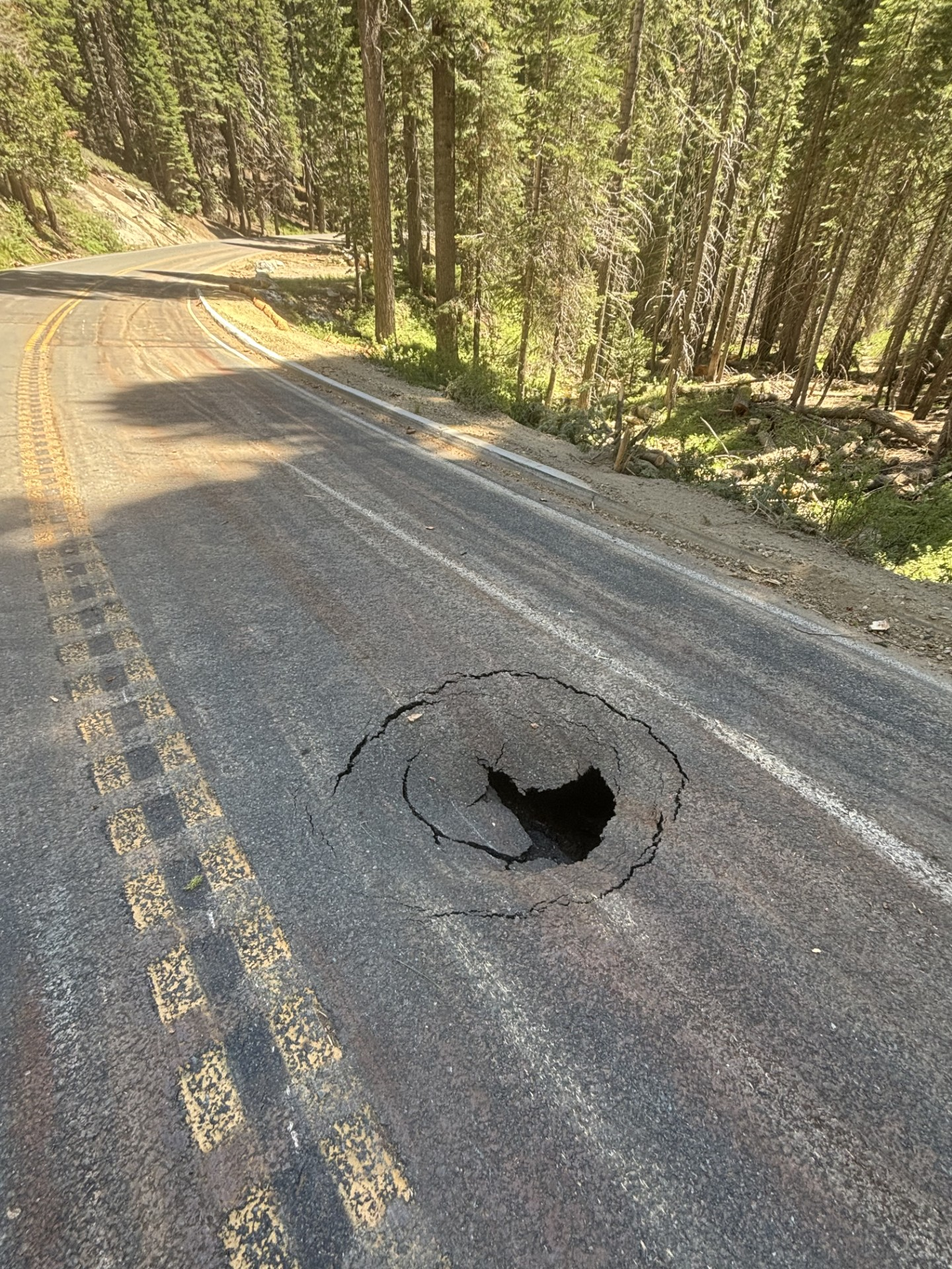Hole_in_the_road: (282, 632, 727, 954)
